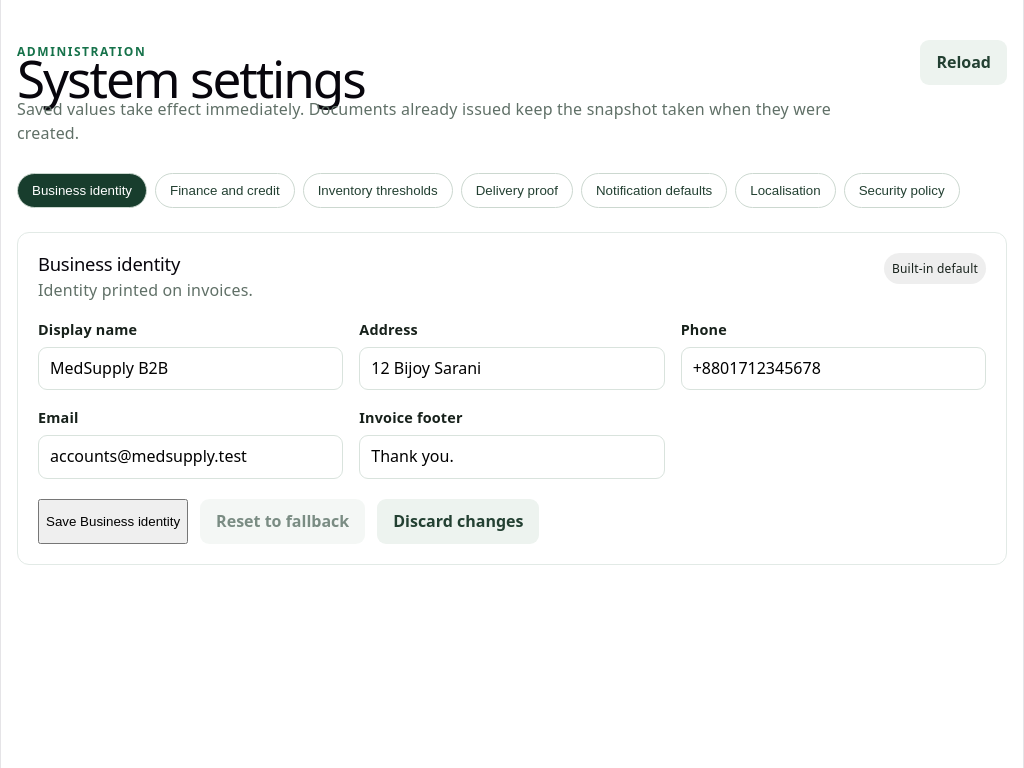
it: SystemSettings › reports a concurrent change and reloads instead of overwriting it
This screenshot has width=1024, height=768.
Expected: the heading "Business identity" is shown, x1=38 y1=251 x2=180 y2=276
Step 1. Click the button "Save Business identity" → (113, 521), box x1=38 y1=498 x2=188 y2=544
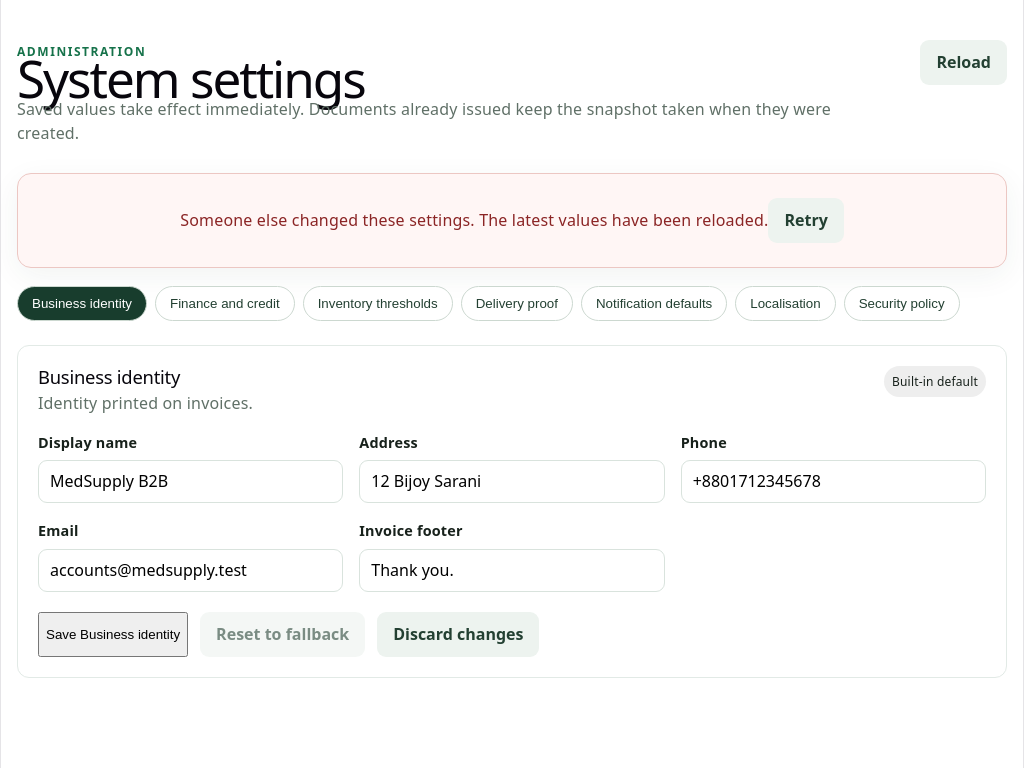
Expected: the text "Someone else changed these settings. The latest values have been reloaded." is shown, x1=180 y1=209 x2=768 y2=231
